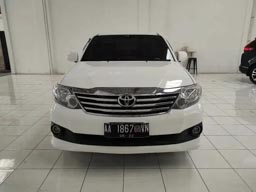plat: (104, 123, 150, 133)
